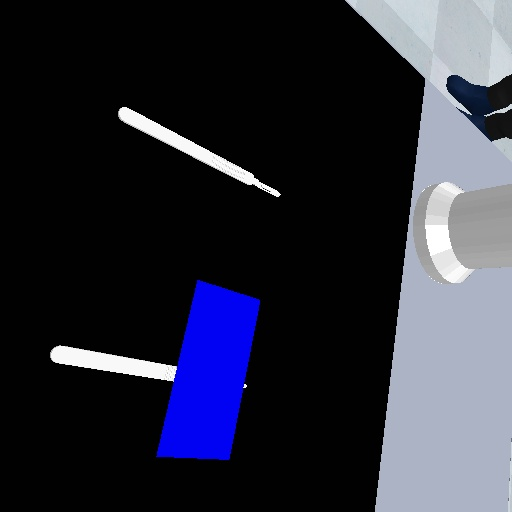bisturi: (112, 101, 285, 201), (47, 339, 180, 384)
